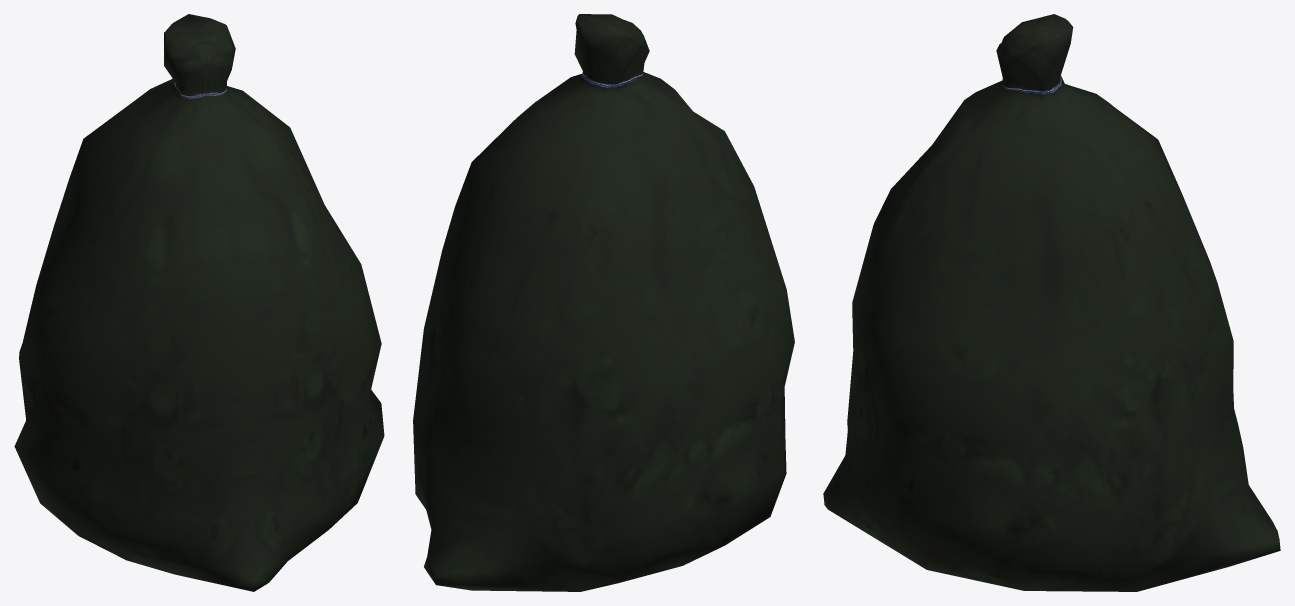
Rendered from trashbag.fbx.
The picture shows the model from 3 angles, left to right: view 1: azimuth 30°, elevation 25°; view 2: azimuth 150°, elevation 25°; view 3: azimuth 270°, elevation 25°; orthographic projection. The views are drawn at different scales.
Visible parts, largest first — view 1: Mesh; view 2: Mesh; view 3: Mesh.
Part boxes in pixels (x1=…): Mesh: x1=14, y1=14, x2=384, y2=591; Mesh: x1=413, y1=14, x2=794, y2=591; Mesh: x1=823, y1=14, x2=1280, y2=591.
Bounding box in the file's own units: 0.505 × 0.7615 × 0.5904.
